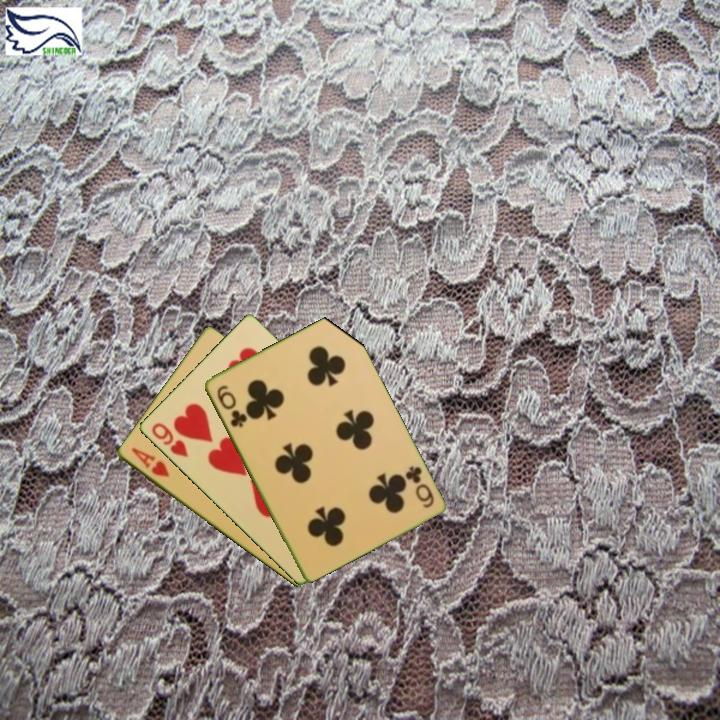6c: (213, 381, 249, 431), (401, 462, 437, 511)
9h: (148, 419, 191, 460)
Ah: (127, 444, 172, 480)
